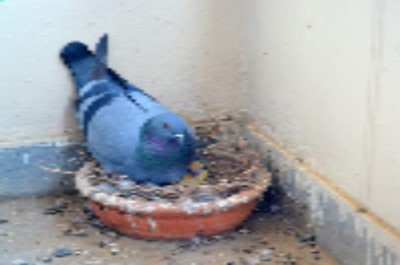pigeon: (57, 35, 202, 188)
